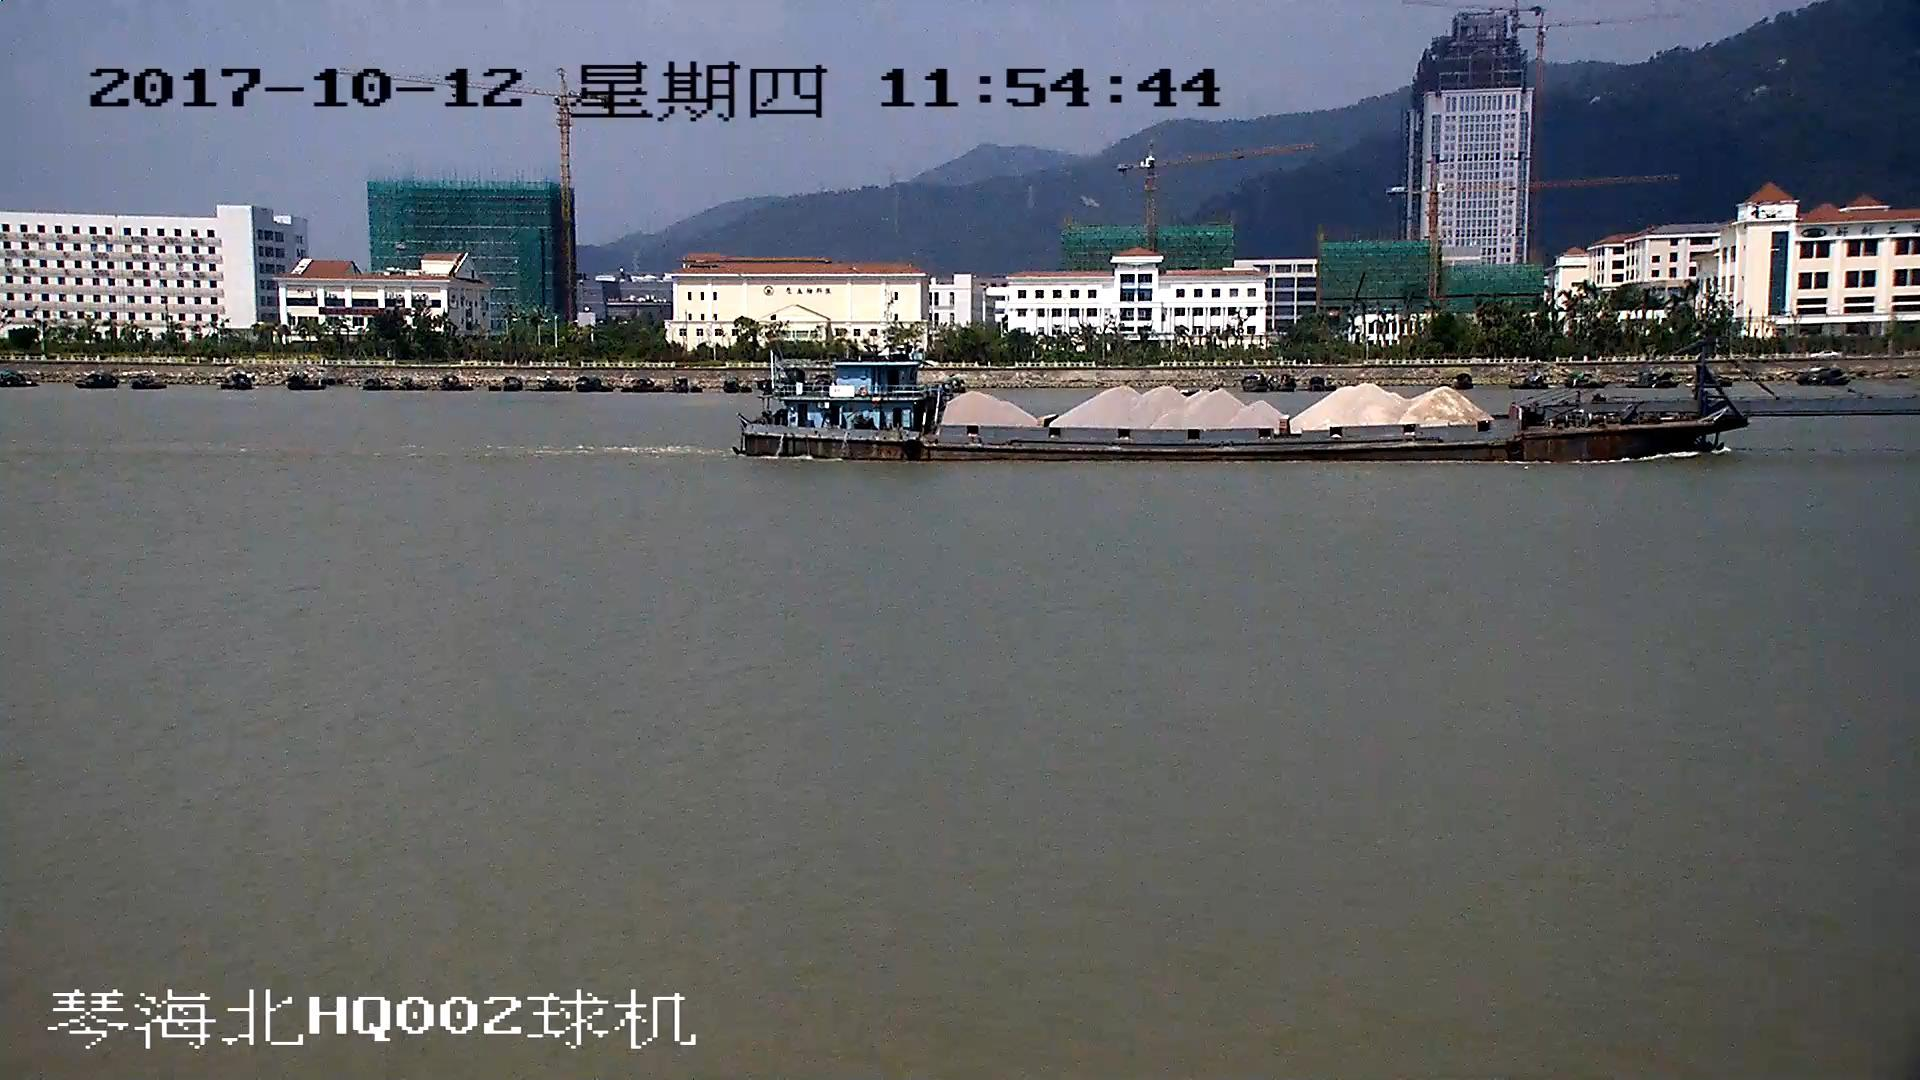Ship: (742, 324, 1920, 464)
